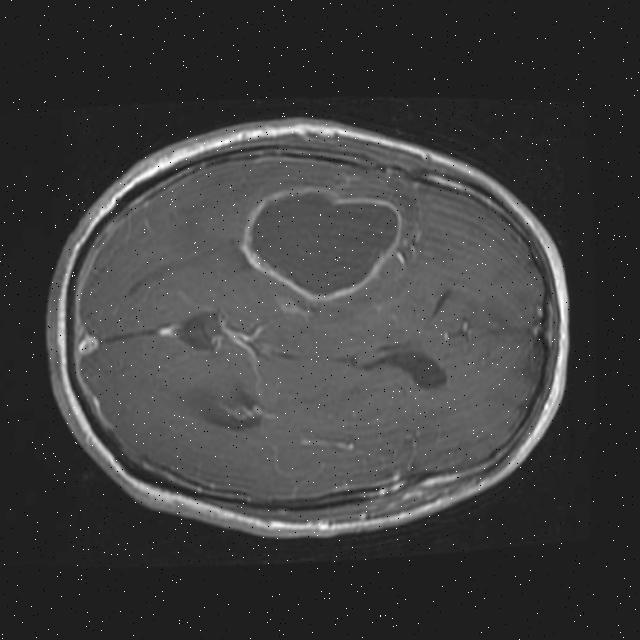Glioma: (233, 176, 411, 311)
